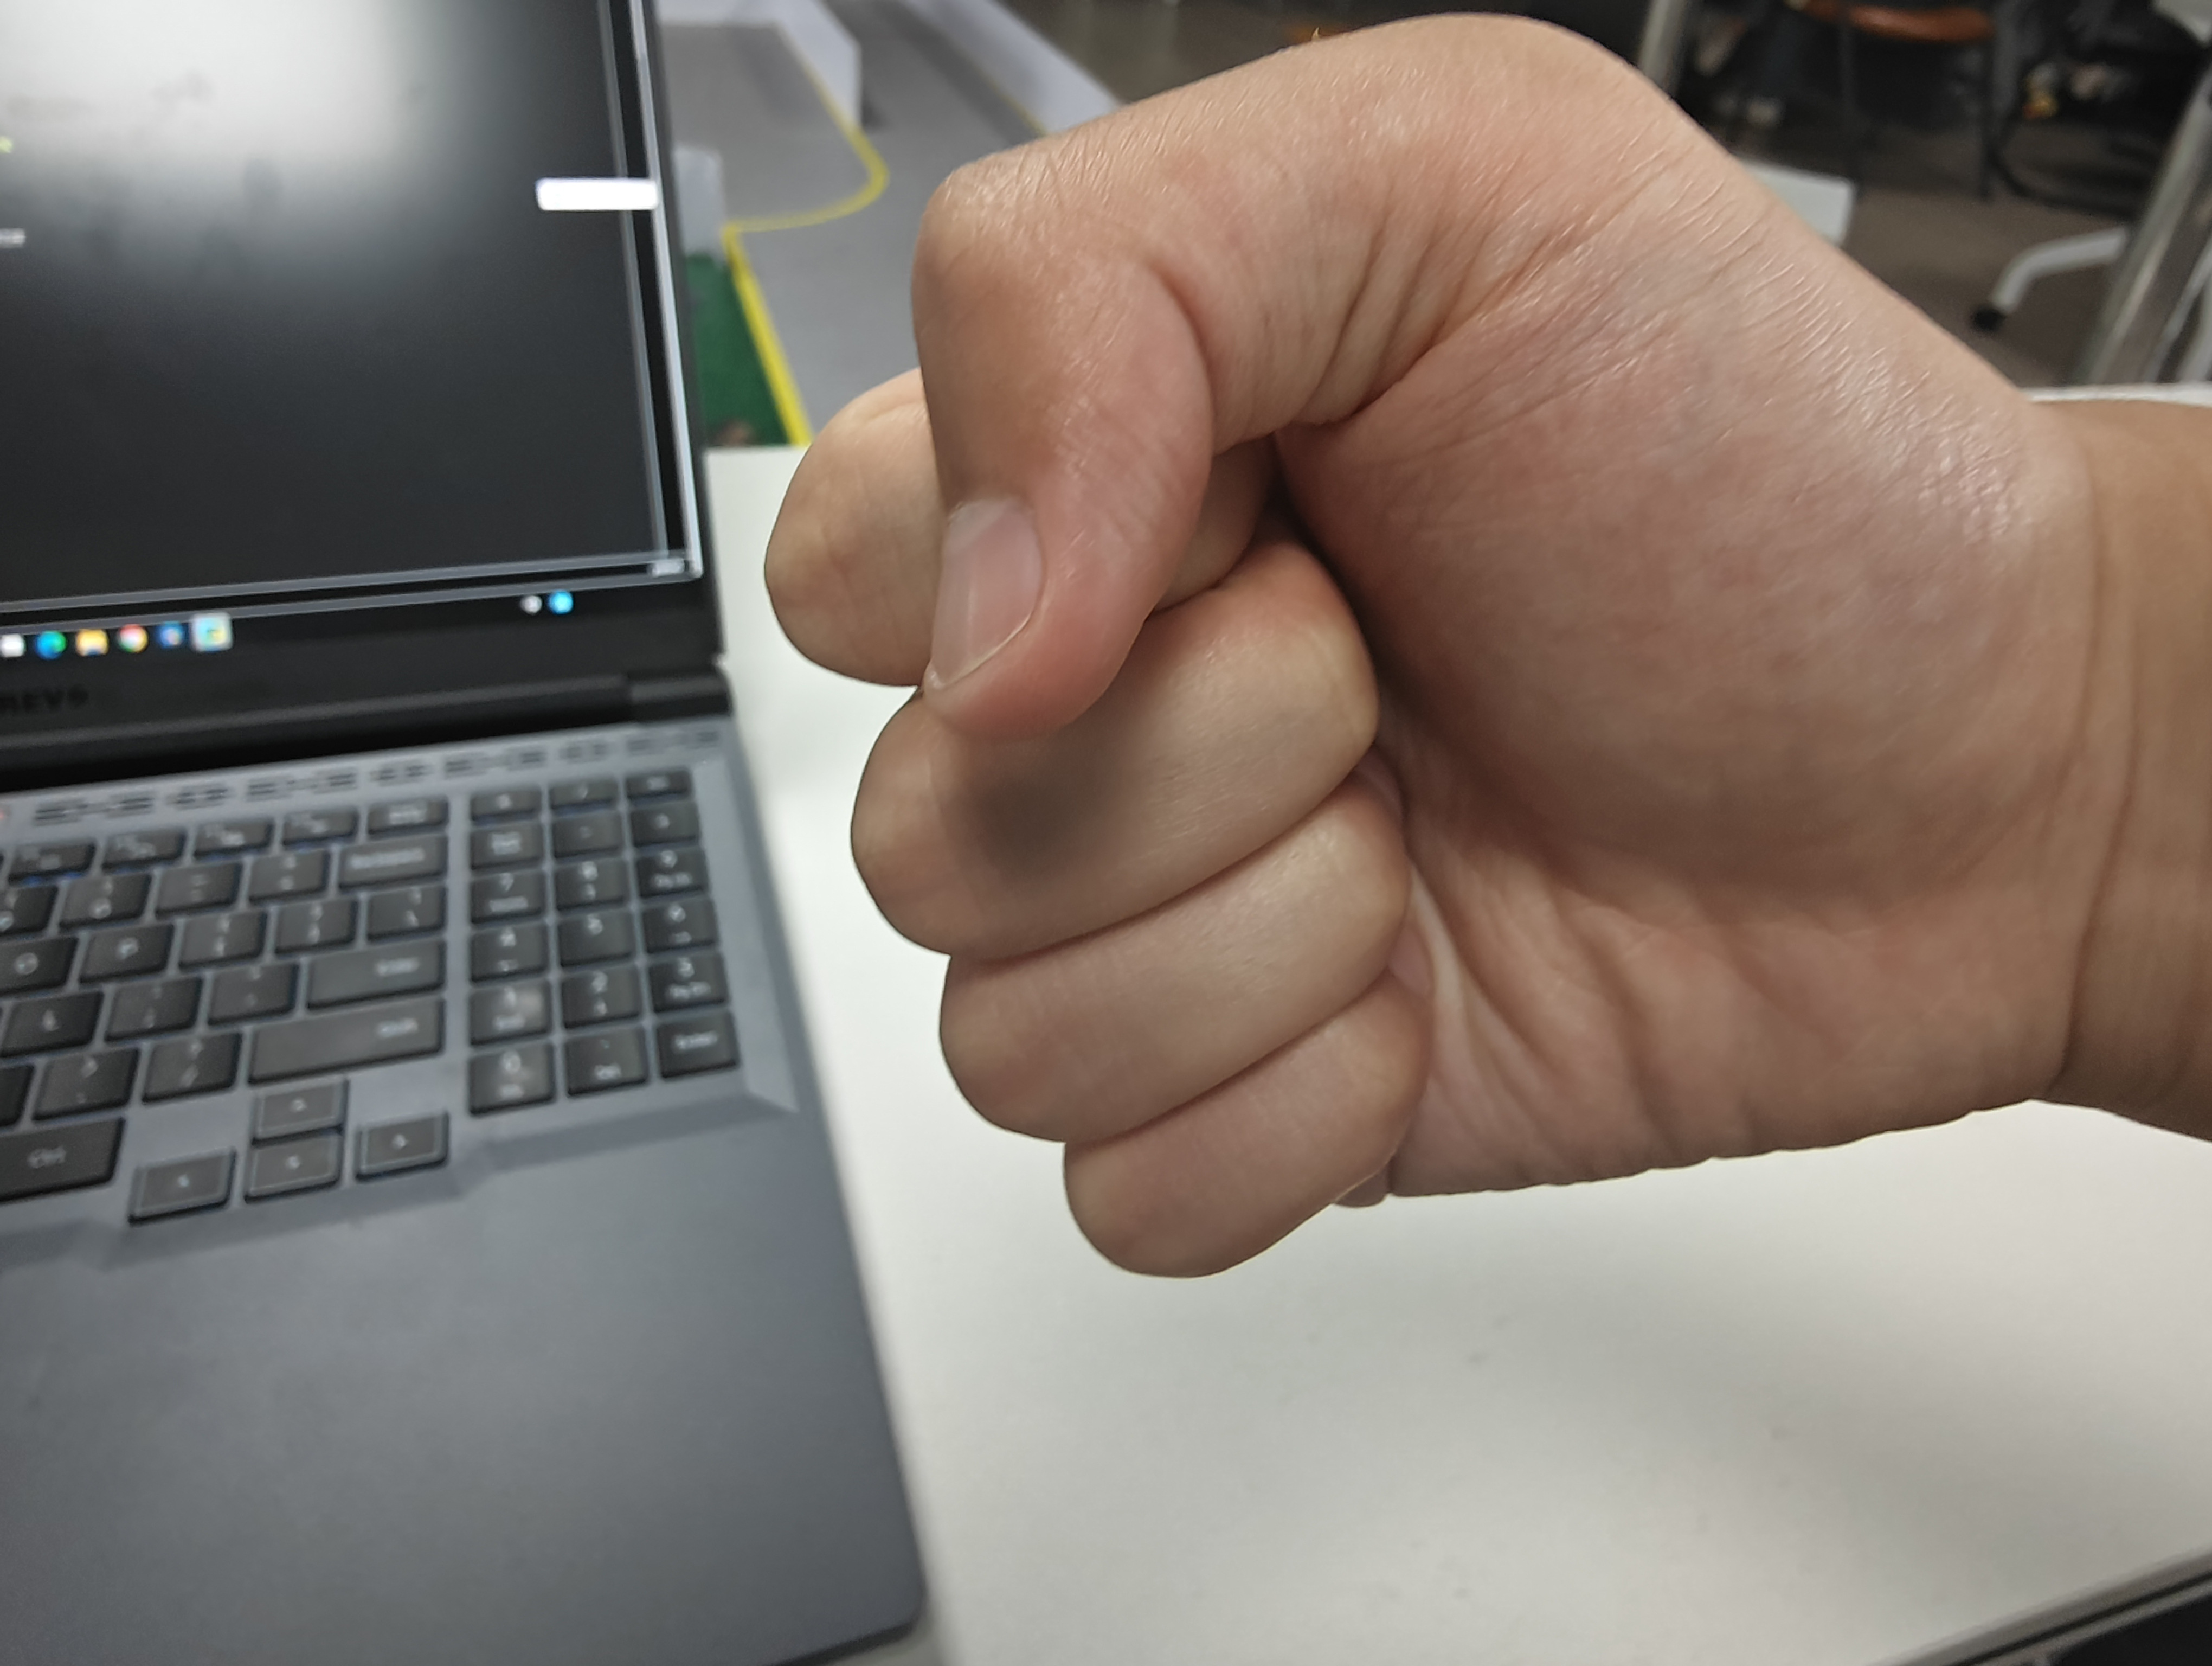mb: (750, 9, 1983, 1276)
